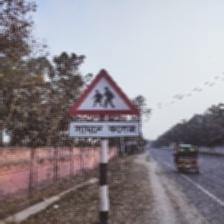College-in-front: (68, 66, 163, 156)
